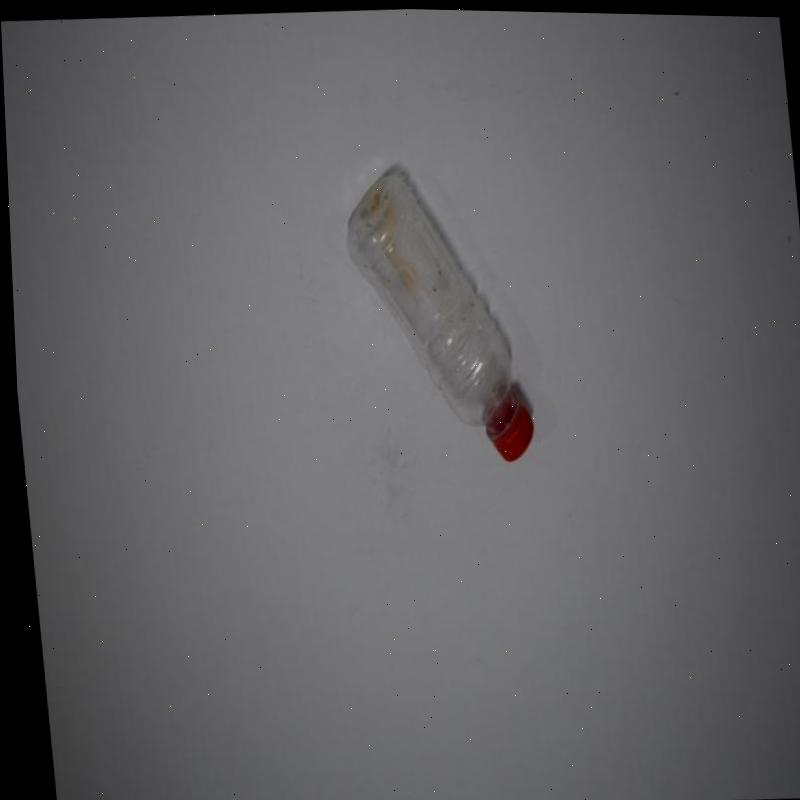botella: (337, 157, 532, 467)
